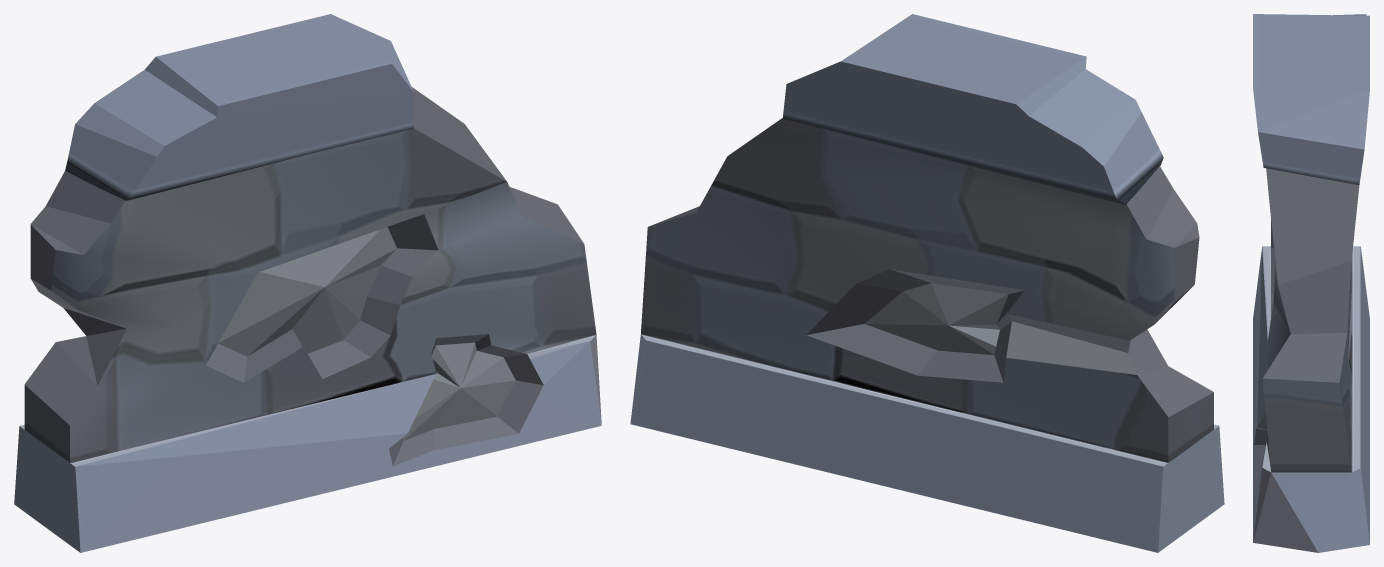
The model's file is Broken_Wall.FBX.
The picture shows the model from 3 angles, left to right: view 1: azimuth 30°, elevation 25°; view 2: azimuth 150°, elevation 25°; view 3: azimuth 270°, elevation 25°; orthographic projection. The views are drawn at different scales.
Parts seen in each view (by area): view 1: Broken_Wall; view 2: Broken_Wall; view 3: Broken_Wall.
Boxes of the visible parts, left/top/right/bottom form: Broken_Wall: left=14, top=14, right=601, bottom=552; Broken_Wall: left=630, top=14, right=1224, bottom=552; Broken_Wall: left=1253, top=14, right=1369, bottom=552.
Bounding box in the file's own units: 104 × 75 × 21.84.
